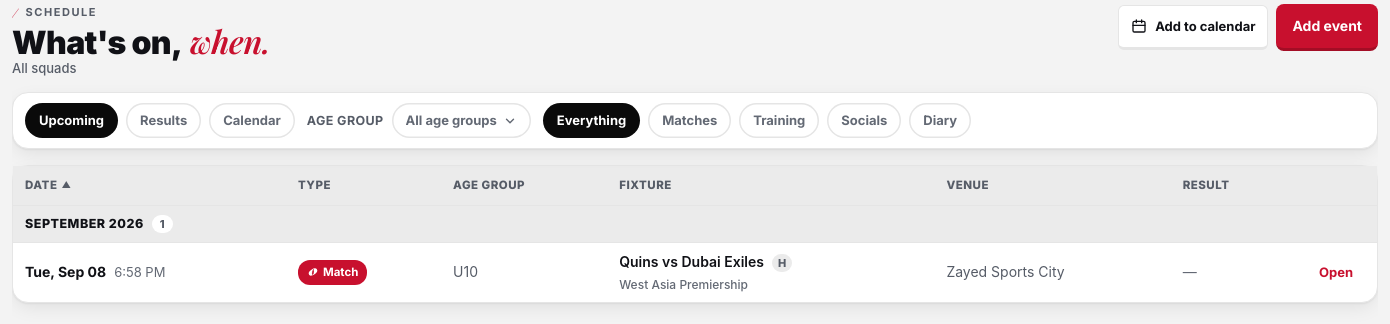
Test: Schedule — Upcoming vs Results › shows an empty state when nothing has a score yet
Expected: the text "Quins vs Dubai Exiles" is shown, 619,253 -> 764,270
Click the button "Results" at (164, 121), box 126,104 -> 201,138
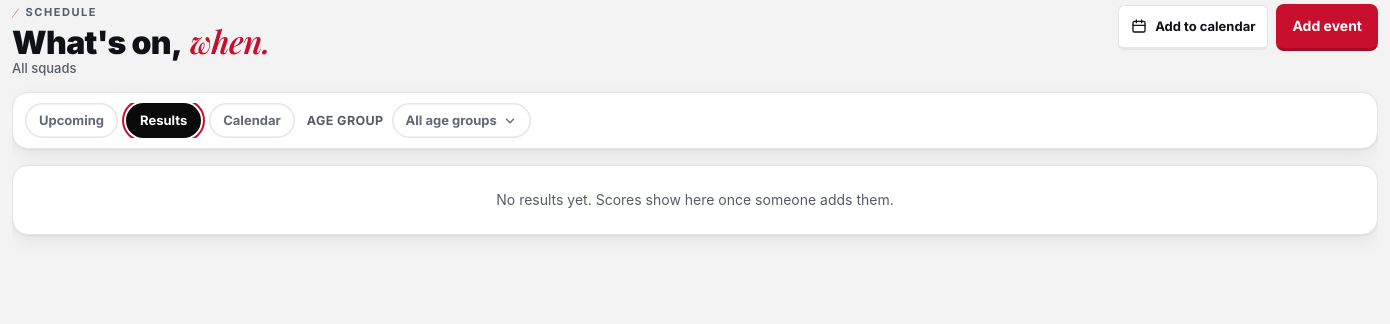
Result: the text "No results yet. Scores show here once someone adds them." is shown at 496,191 -> 894,208
